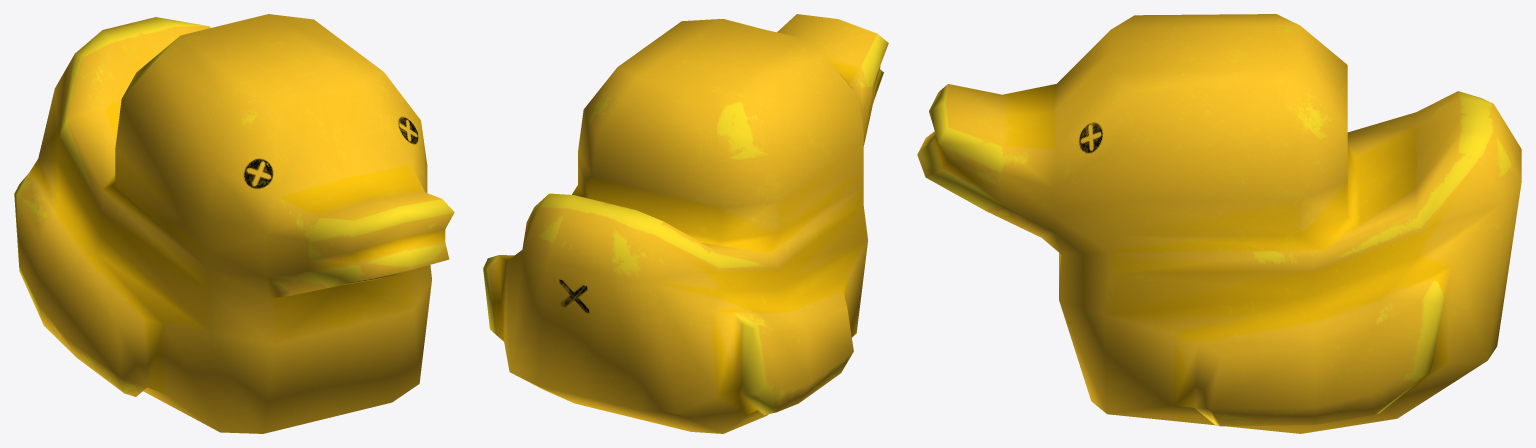
Rendered from municion.fbx.
3 renders of one model, left to right at view 1: azimuth 30°, elevation 25°; view 2: azimuth 150°, elevation 25°; view 3: azimuth 270°, elevation 25°, orthographic. The views are drawn at different scales.
Parts seen in each view (by area): view 1: Municion; view 2: Municion; view 3: Municion.
Part boxes in pixels (x1,y1,x2,y2): Municion: (14,14,454,433); Municion: (483,14,888,433); Municion: (917,14,1521,433).
Bounding box in the file's own units: 34.52 × 37 × 58.89.
